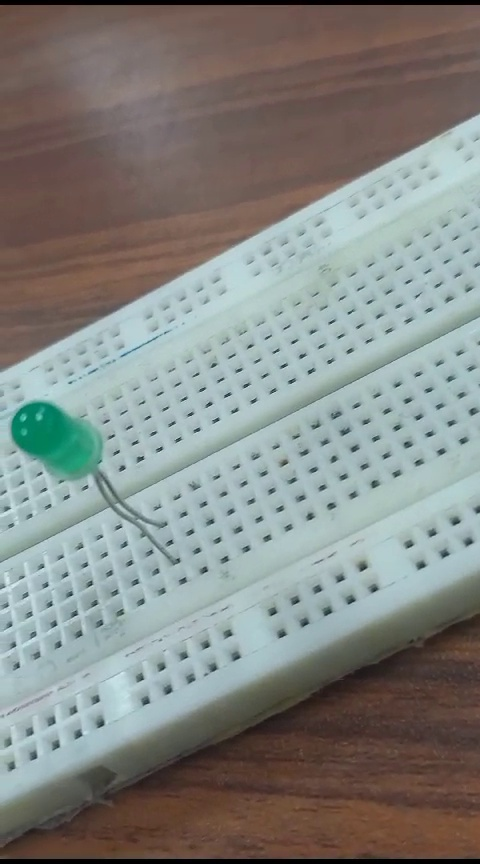LED: (10, 399, 190, 560)
